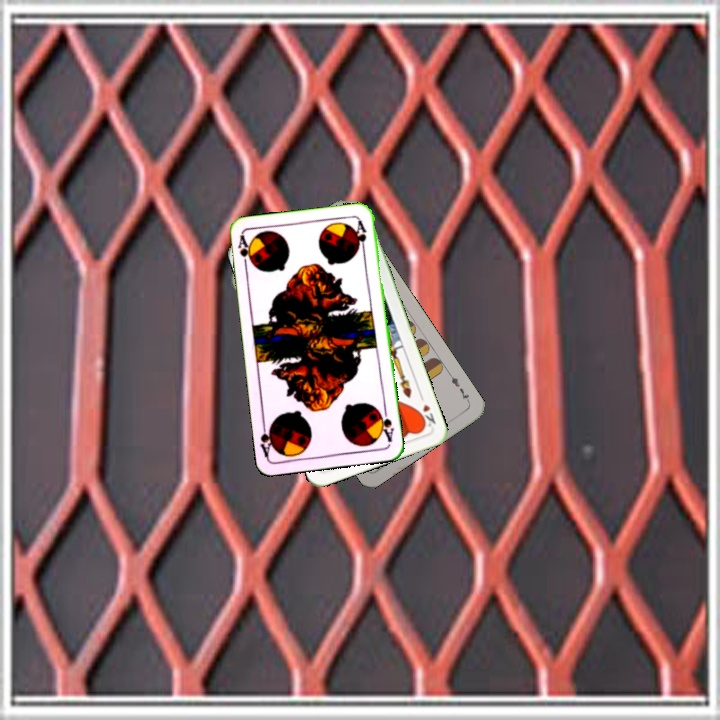E7: (445, 369, 473, 406)
HK: (415, 391, 438, 430)
SA: (375, 404, 396, 445), (234, 231, 255, 272)
